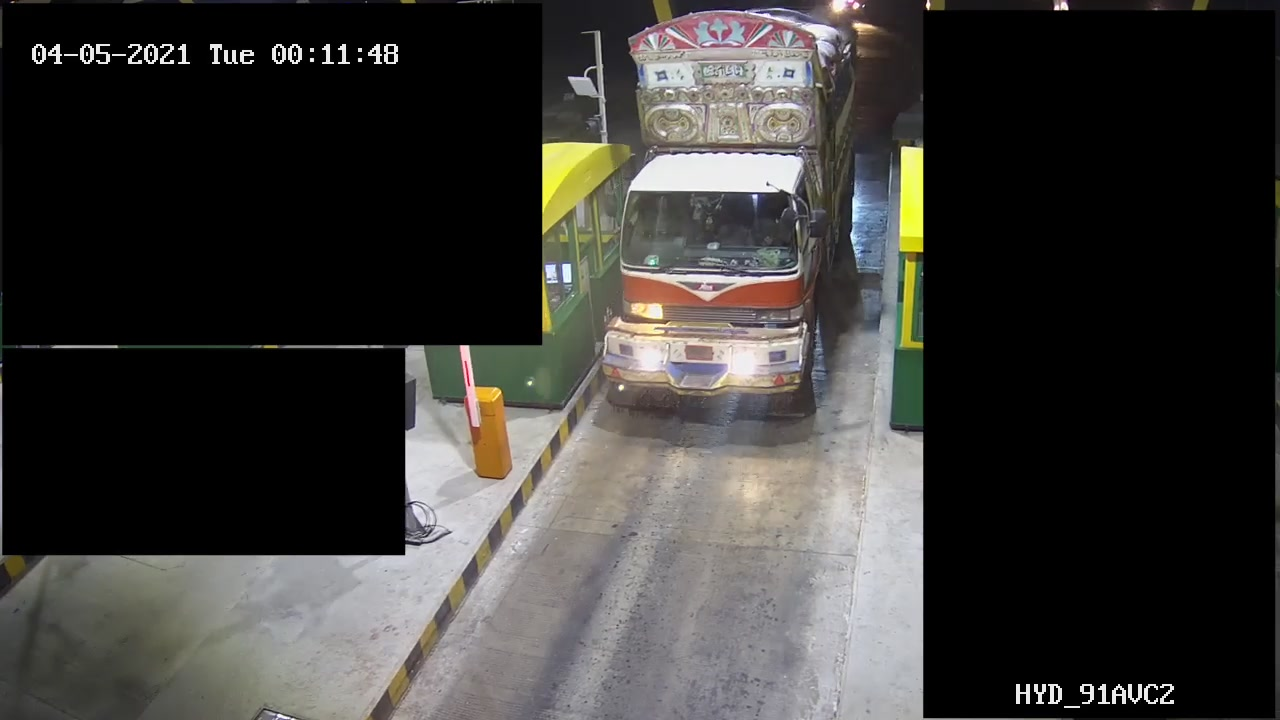F5: (585, 1, 876, 448)
